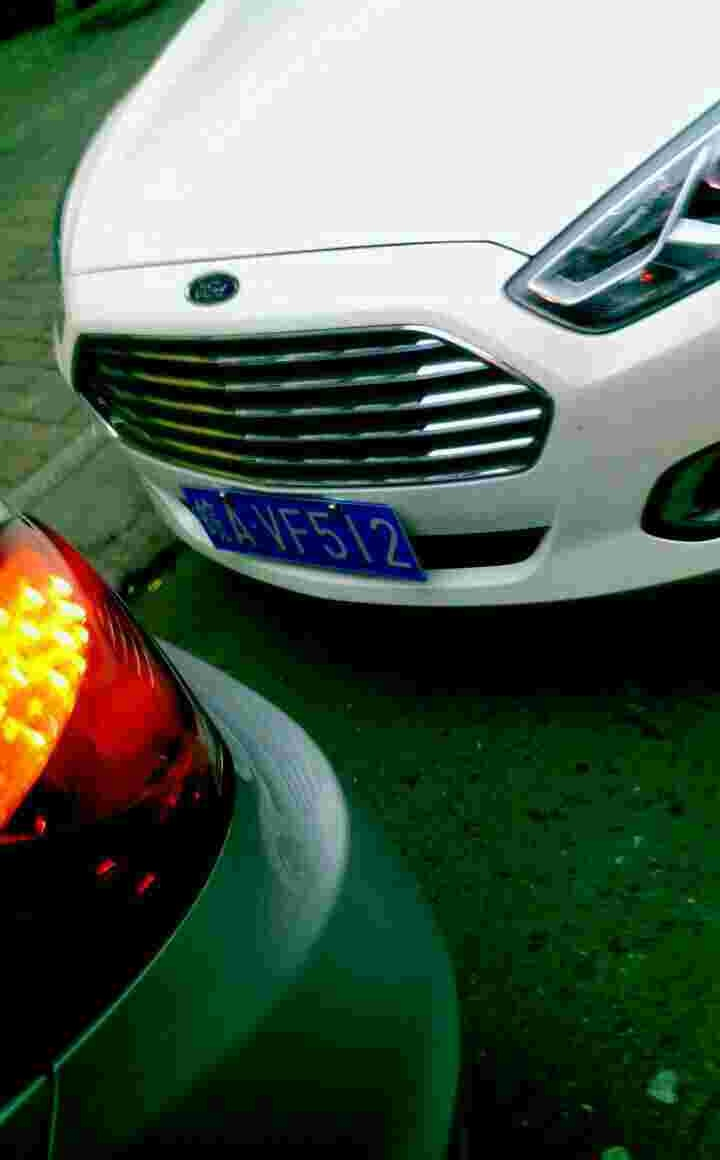license_plate: (166, 486, 423, 583)
